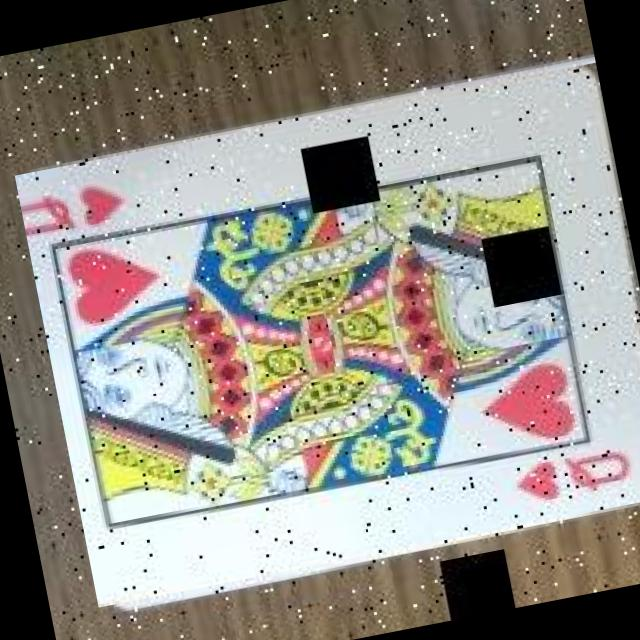Queen of hearts: (15, 62, 640, 607)
